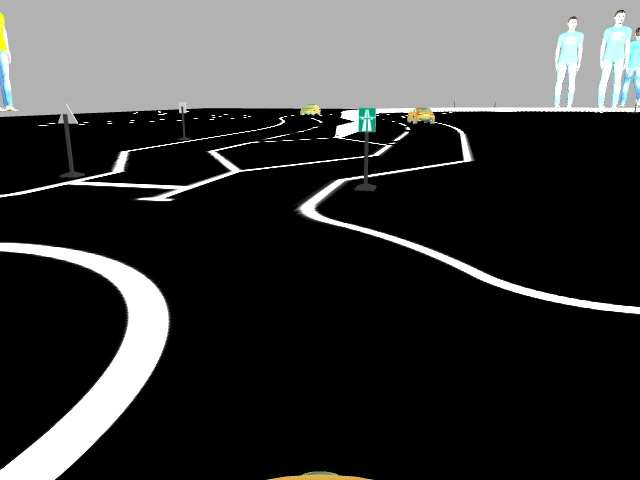HighwayEntrance: (356, 105, 377, 133)
